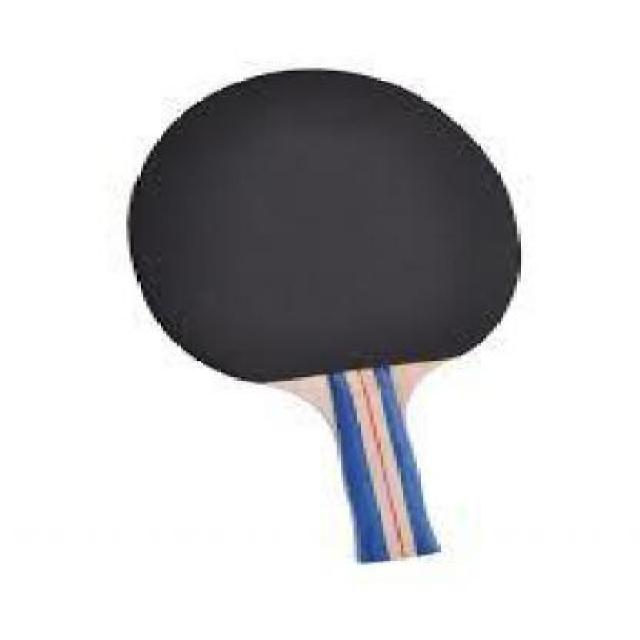table_tennis_racket: (117, 67, 528, 405)
